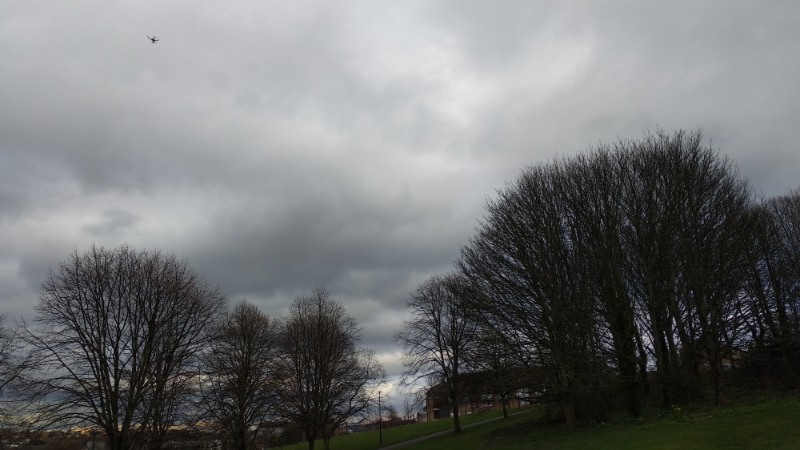drone: (147, 35, 161, 45)
